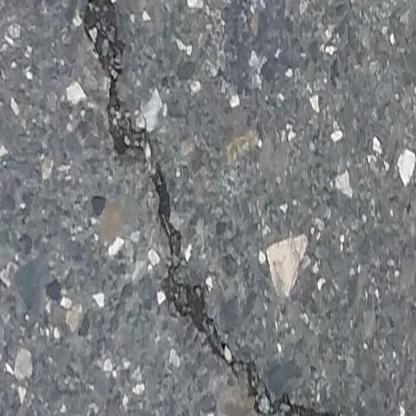Cracks: (78, 0, 375, 416)
